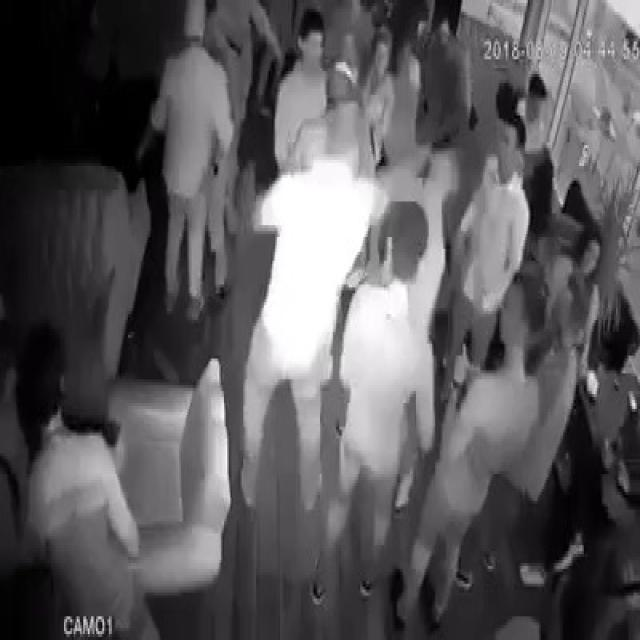fight: (270, 98, 457, 337)
